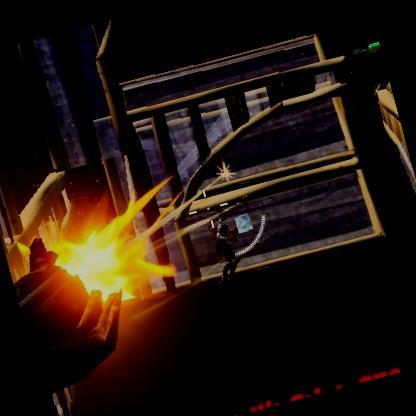person: (205, 219, 250, 291), (209, 228, 240, 272)
